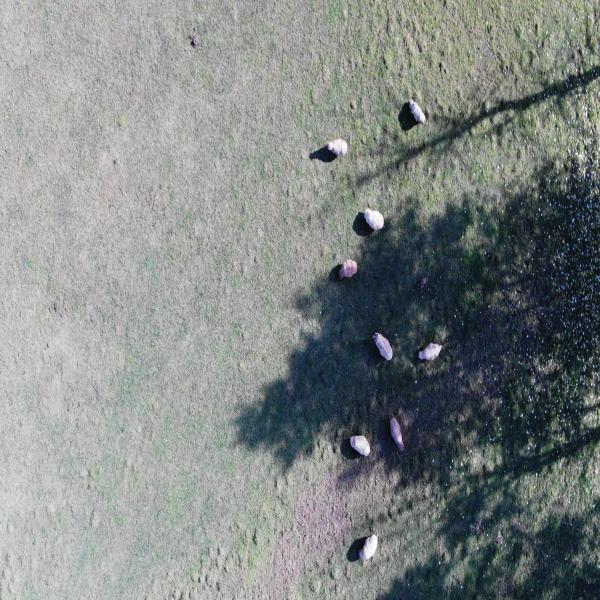sheep: (354, 513, 389, 573), (414, 336, 446, 388), (367, 324, 401, 371), (402, 83, 428, 136), (360, 199, 390, 244), (348, 420, 372, 465), (323, 121, 348, 161), (337, 254, 367, 287), (391, 409, 409, 458)
